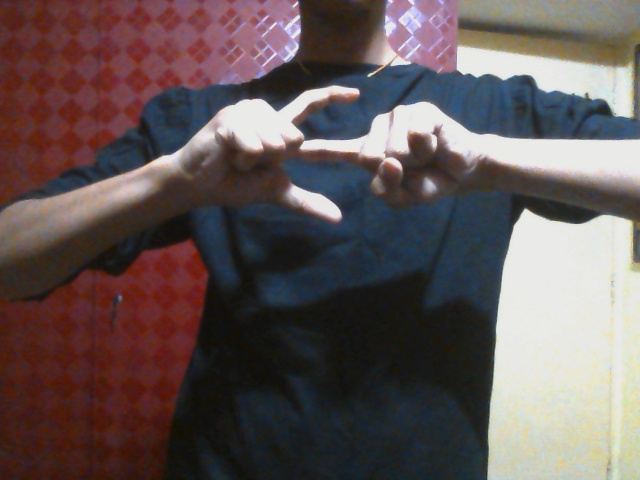E: (189, 81, 498, 229)
